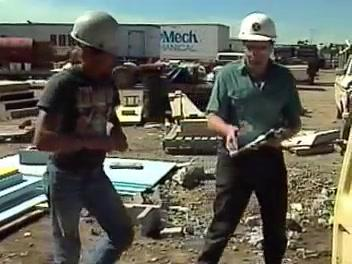no -hi-vis jacket: (49, 76, 116, 171), (222, 63, 293, 151)
